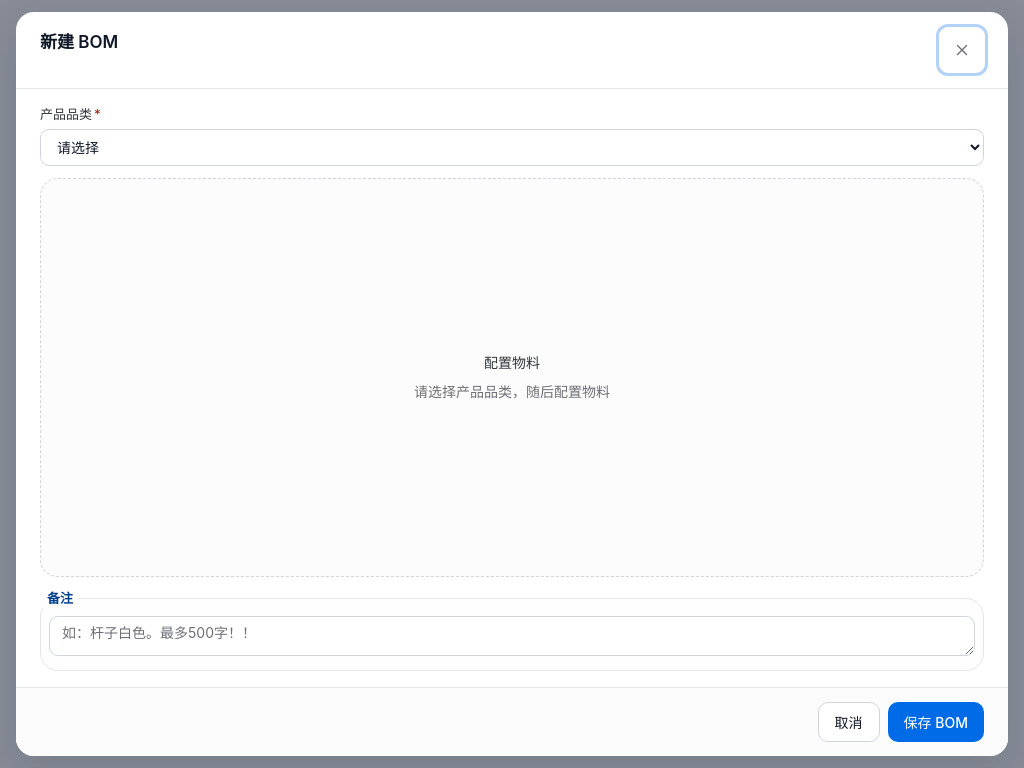
无原型演示噪音：无副标题、无步骤编号、无预览/预估编码
Select "新微动" in the dropdown labelled "产品品类*". click: (512, 147)
box: [40,128,984,166]
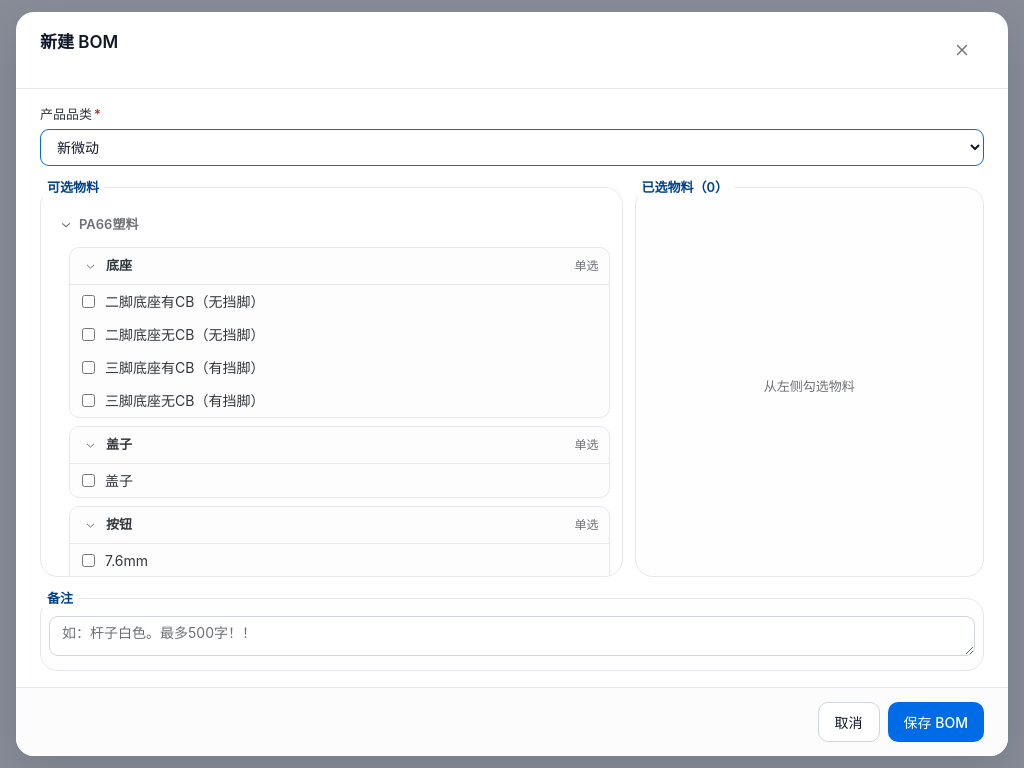
Check: the text "从左侧勾选物料" is shown, box [764,376,855,396]
